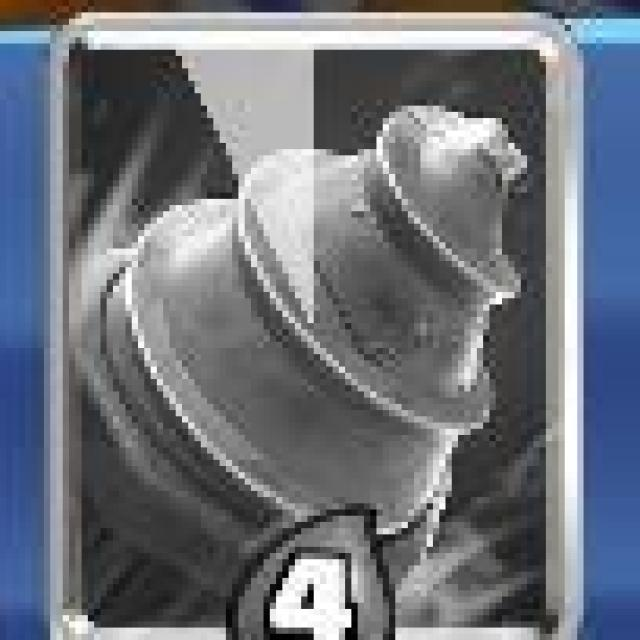Goblin_Drill: (37, 12, 592, 640)
